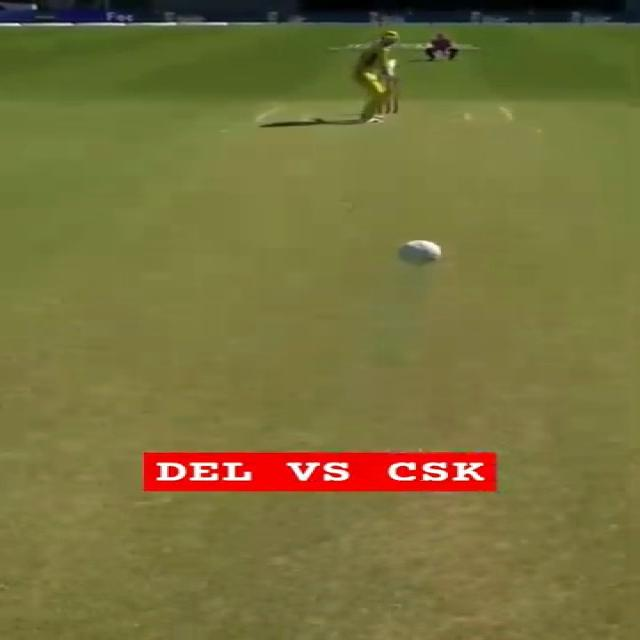ball: (386, 236, 452, 272)
